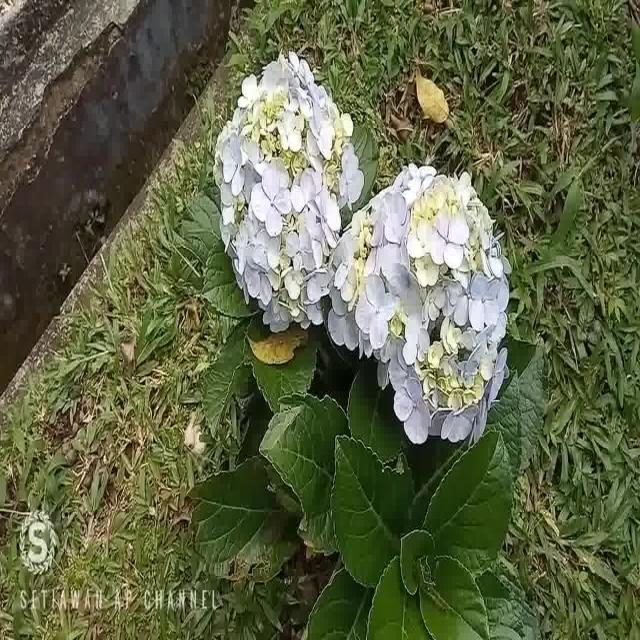Flower: (343, 157, 509, 444), (208, 55, 352, 357)
